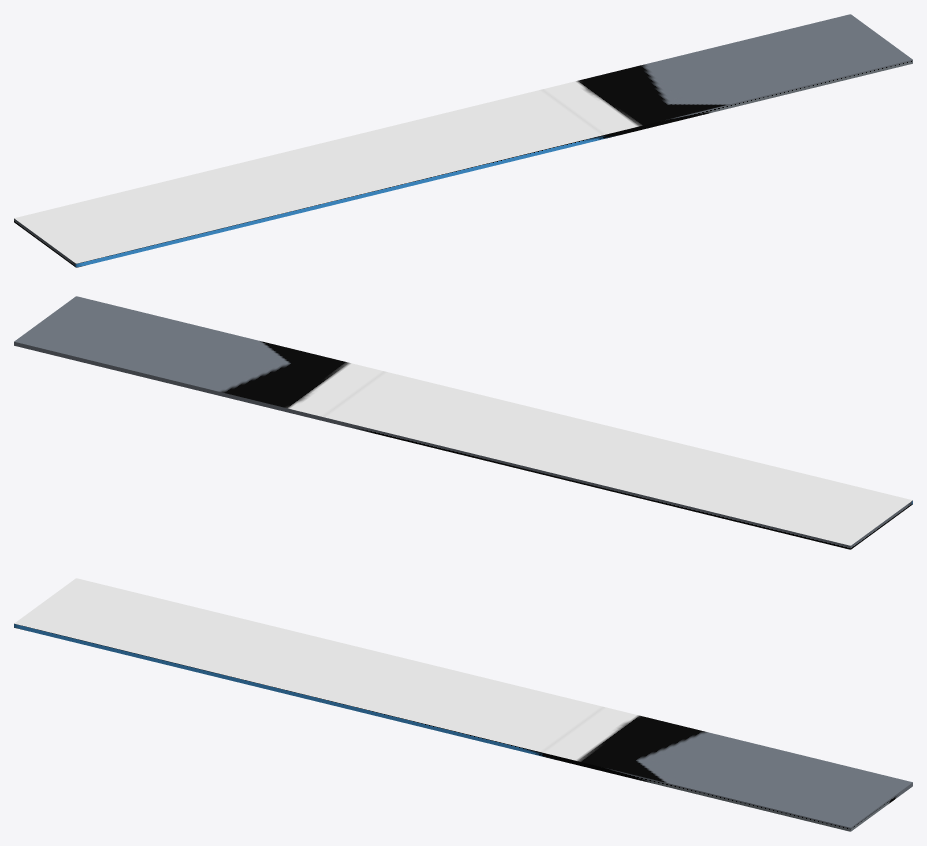
File: PanelSuperior30m.glb
3 renders of one model, top to bottom at view 1: azimuth 30°, elevation 25°; view 2: azimuth 150°, elevation 25°; view 3: azimuth 330°, elevation 25°, orthographic.
Visible parts, largest first — view 1: Cube; view 2: Cube; view 3: Cube.
Part boxes in pixels (x1,y1,x2,y2): Cube: [14, 14, 912, 267]; Cube: [14, 296, 912, 549]; Cube: [14, 578, 912, 831].
Size of the model in its own units: 29.97 by 0.3994 by 3.86.
Materials: 3 (1 with a texture image).
